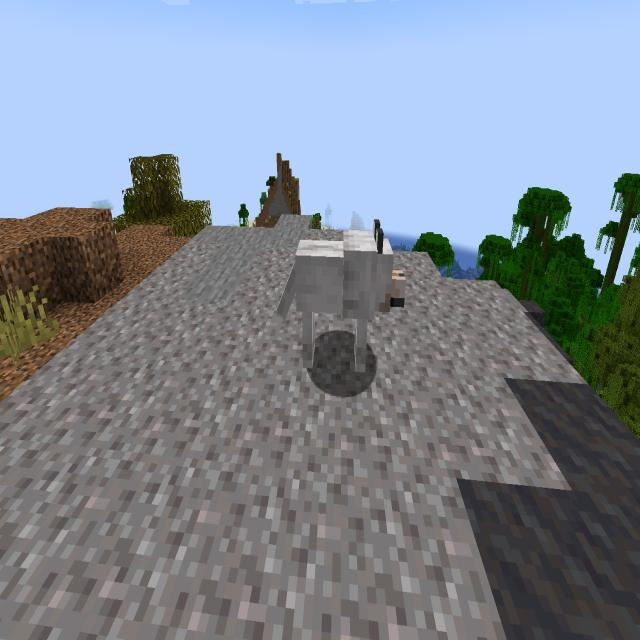Wolf: (272, 201, 413, 390)
